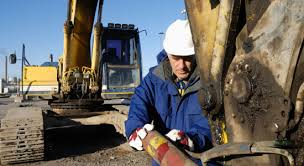helmet: (165, 21, 193, 56)
